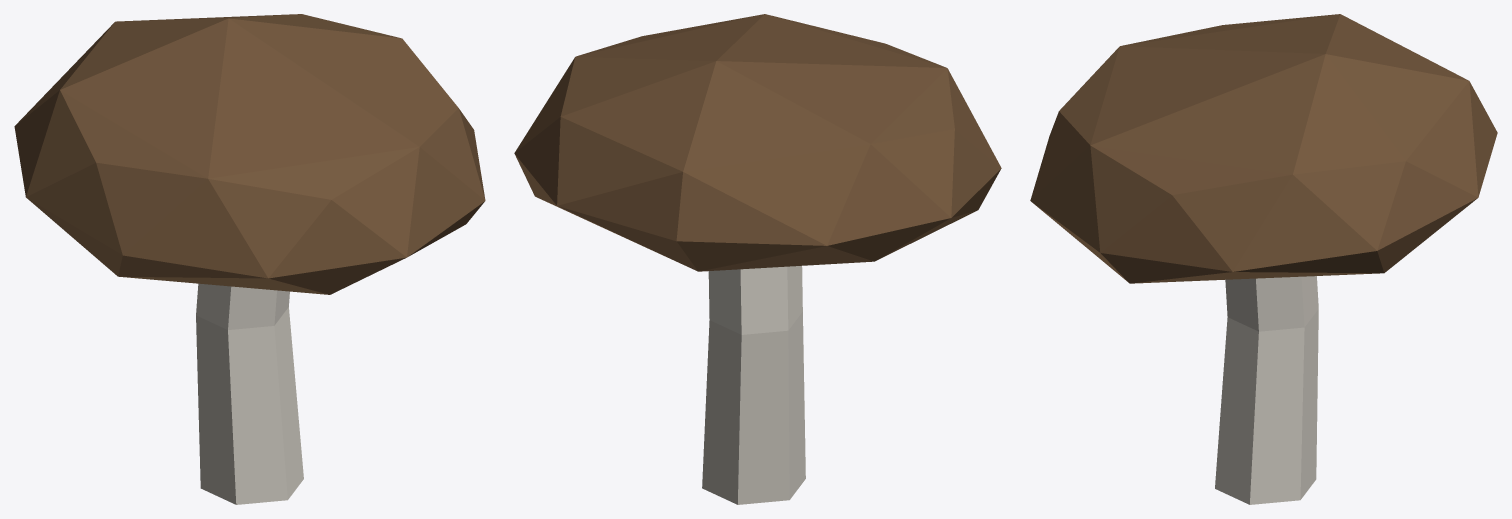
File: Mushroom.fbx
3 views of the same model, side by side, from view 1: azimuth 30°, elevation 25°; view 2: azimuth 150°, elevation 25°; view 3: azimuth 270°, elevation 25° (orthographic). The views are drawn at different scales.
Parts seen in each view (by area): view 1: Mushroom; view 2: Mushroom; view 3: Mushroom.
Part boxes in pixels (box(x1,y1,x2,y2)): Mushroom: box(14, 14, 485, 504); Mushroom: box(514, 14, 1001, 504); Mushroom: box(1030, 14, 1497, 504).
Size of the model in its own units: 0.2733 by 0.2767 by 0.2705.
